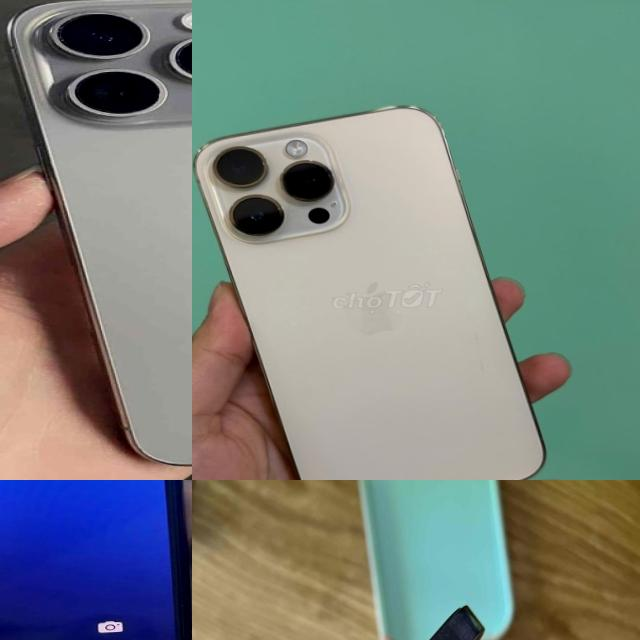gen_11: (0, 480, 192, 640)
gen_14: (192, 100, 549, 480)
gen_15: (0, 0, 192, 466)
